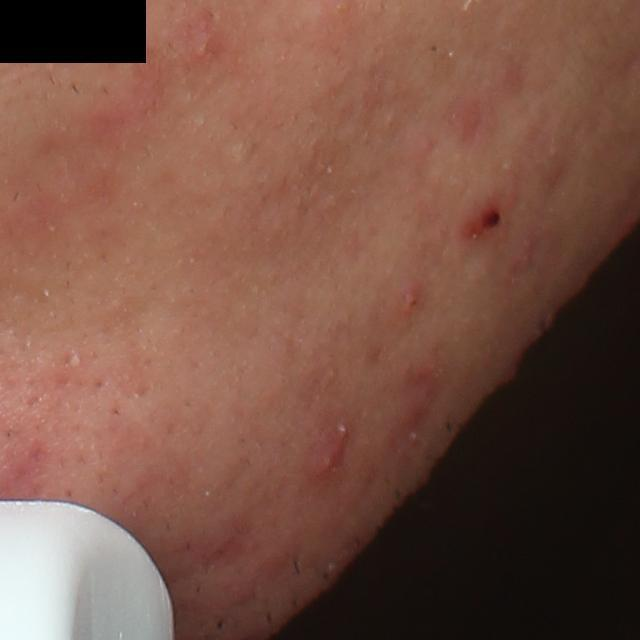papule: (307, 423, 356, 484), (461, 200, 507, 236), (192, 15, 220, 59), (397, 280, 426, 314)
